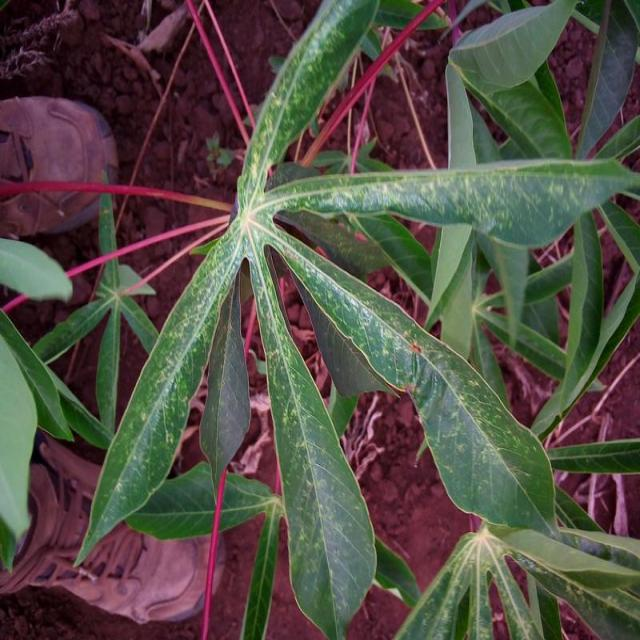cassava leaf: (65, 0, 636, 637)
